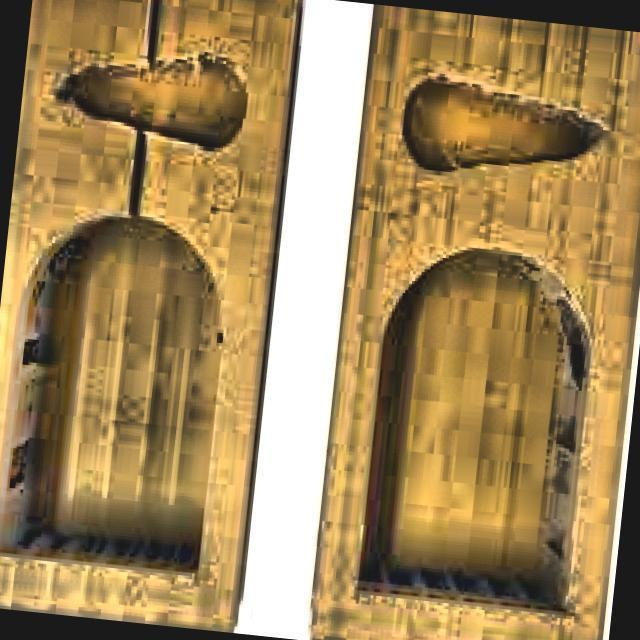cardboard: (306, 3, 640, 640), (0, 0, 306, 633)
